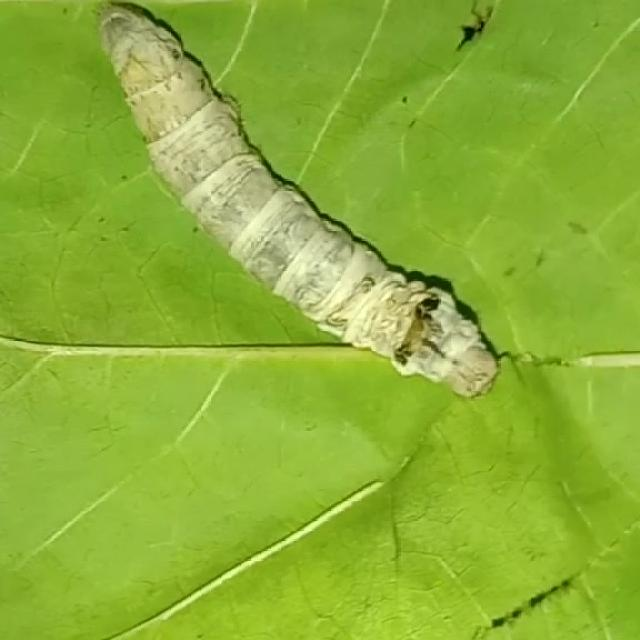Grasserie: (75, 0, 521, 412)
